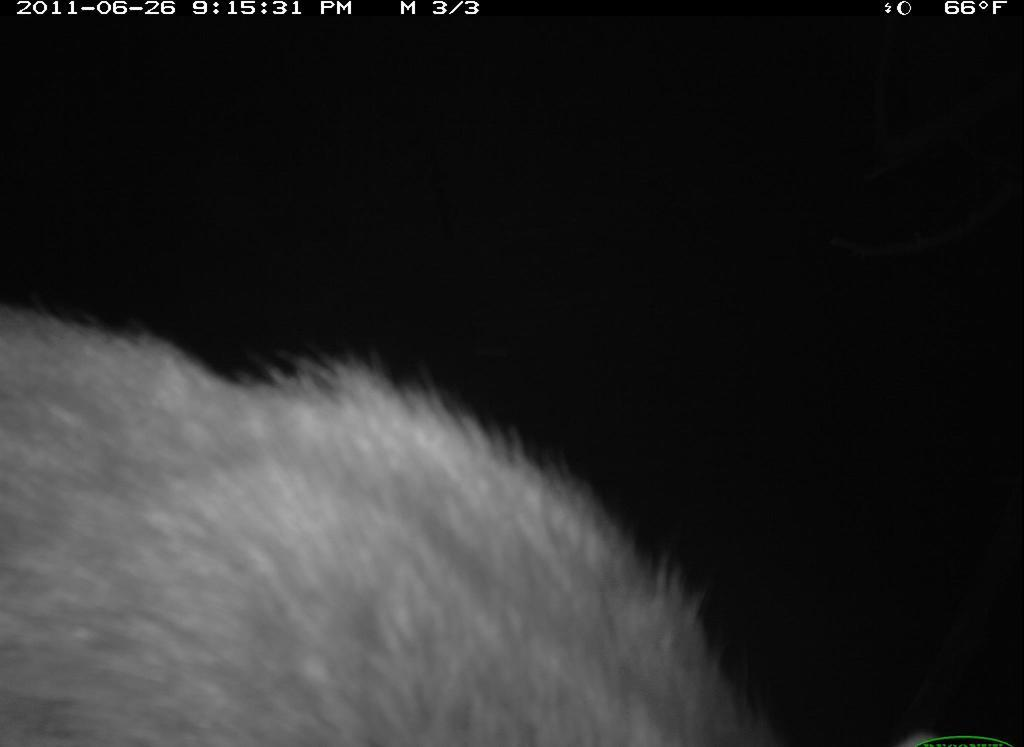raccoon: (1, 285, 803, 743)
